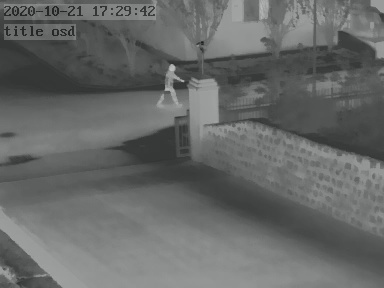person: (157, 63, 182, 108)
